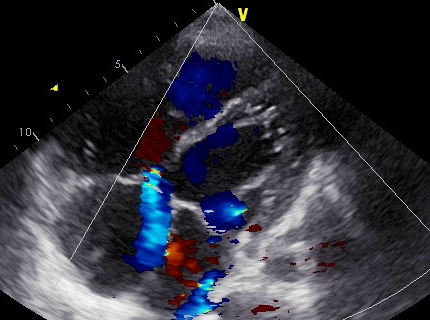MR: (96, 165, 168, 226)
